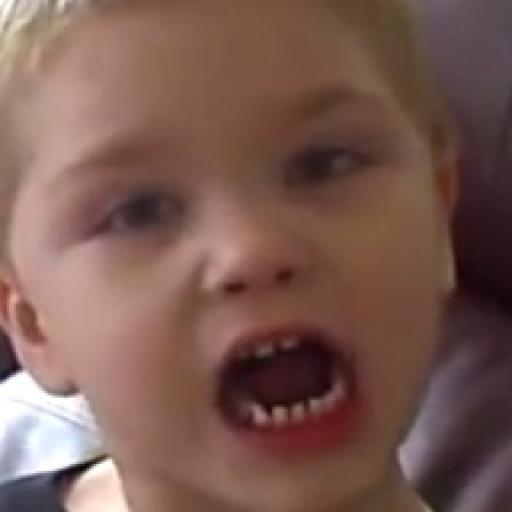Autism: (17, 14, 489, 505)
